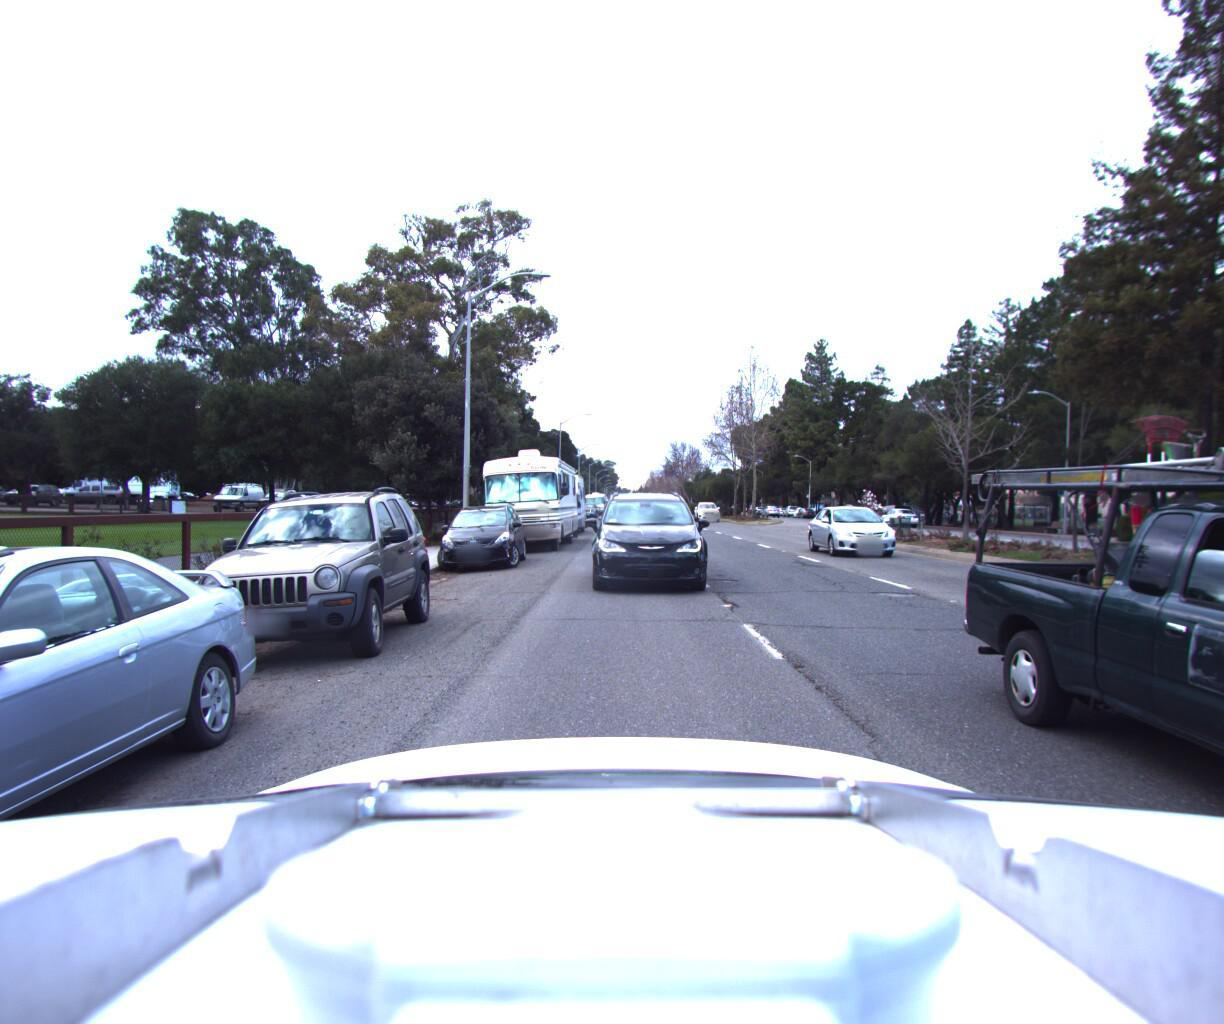car: (1028, 0, 1224, 1024), (0, 525, 267, 1024), (148, 470, 438, 681), (589, 484, 700, 596), (433, 499, 525, 573), (814, 501, 919, 561), (870, 504, 915, 524), (692, 496, 721, 519)
other_vehicle: (474, 442, 578, 552), (518, 462, 586, 536)
